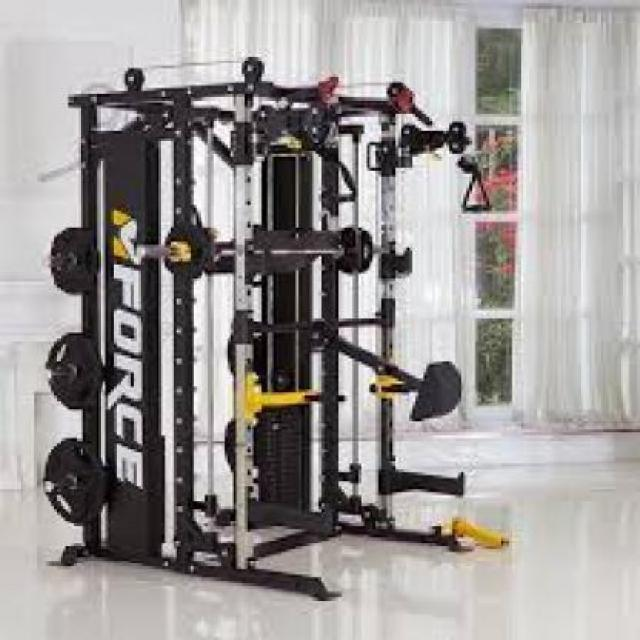smith machine: (46, 56, 514, 602)
